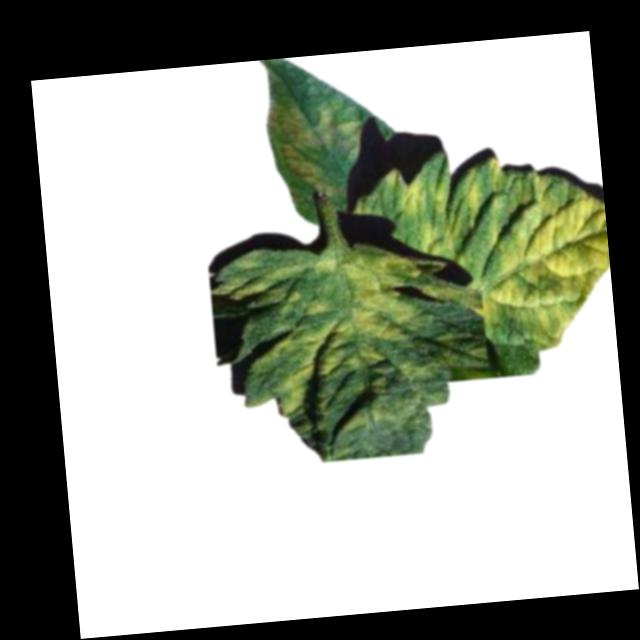Leaf_Mold: (395, 149, 616, 362), (211, 243, 431, 443), (265, 93, 366, 201)
